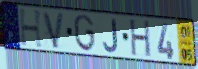4: (156, 20, 176, 61)
G: (73, 13, 97, 53)
H: (18, 8, 44, 50), (129, 19, 152, 60)
J: (102, 17, 119, 54)
V: (41, 10, 66, 50)
